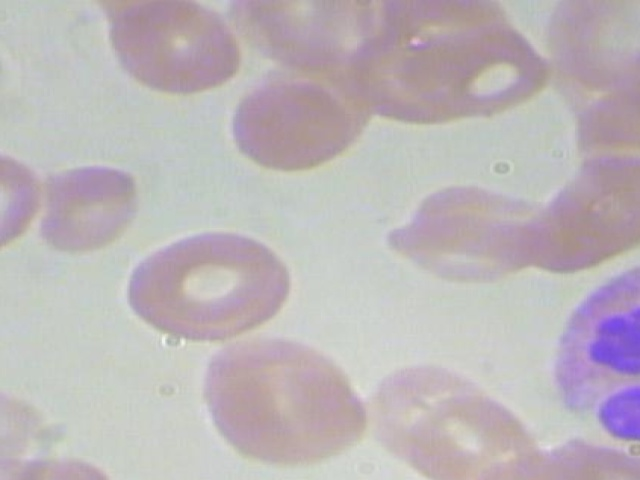RBC: (200, 354, 383, 471), (124, 221, 296, 342), (380, 212, 554, 293), (38, 141, 146, 266), (227, 76, 359, 178), (110, 0, 243, 96), (197, 335, 347, 415), (540, 0, 640, 91), (569, 77, 640, 181), (0, 142, 47, 261)
WBC: (533, 252, 640, 465)
